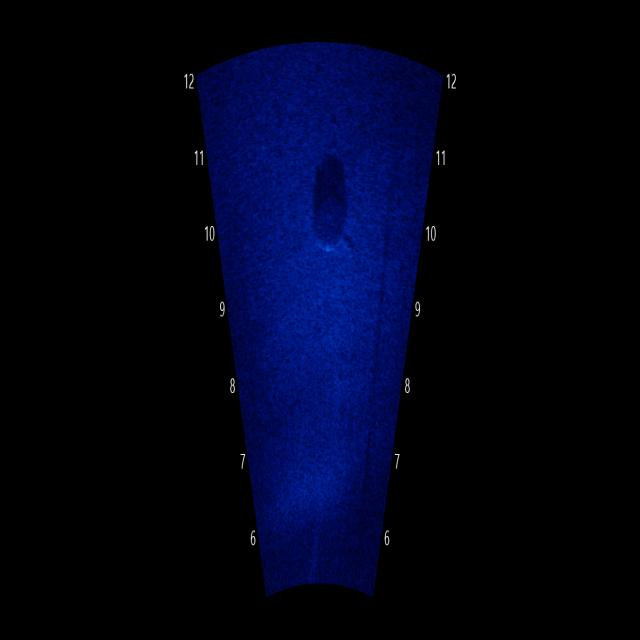circle: (303, 167, 351, 272)
